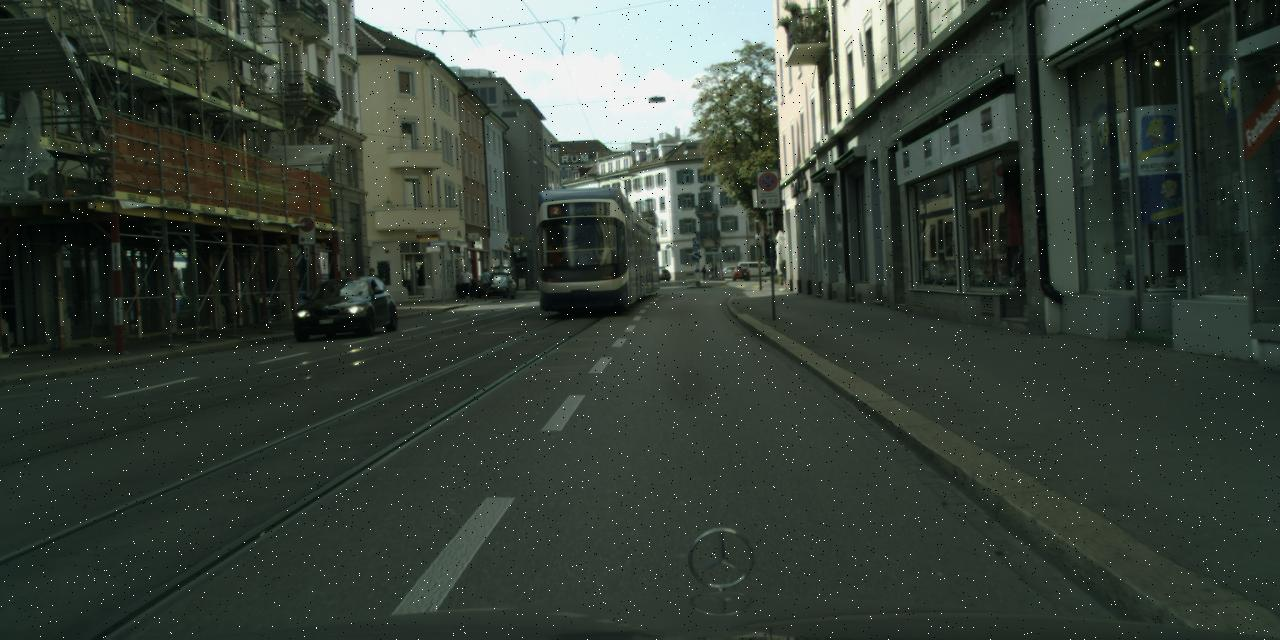ped: (364, 268, 381, 310), (342, 268, 358, 310), (479, 268, 492, 298), (459, 267, 472, 297), (709, 262, 716, 279), (706, 264, 711, 280), (701, 264, 706, 280)
